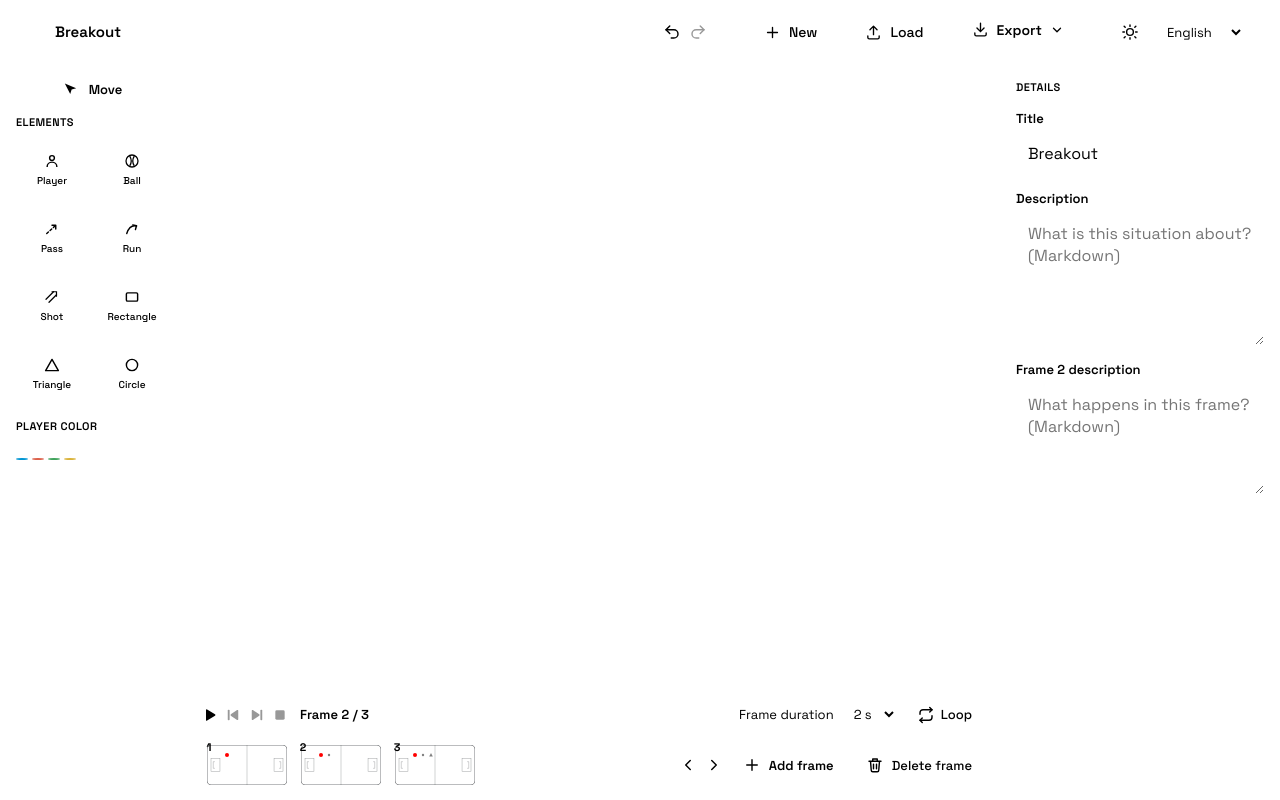
Test case: editor page: slideshow playback › while playing › undo/redo are disabled, also by keyboard; Delete and Backspace do nothing
The width and height of the screenshot is (1280, 800).
Click the button named "Play" at point(209, 714), box [200,706,218,724]
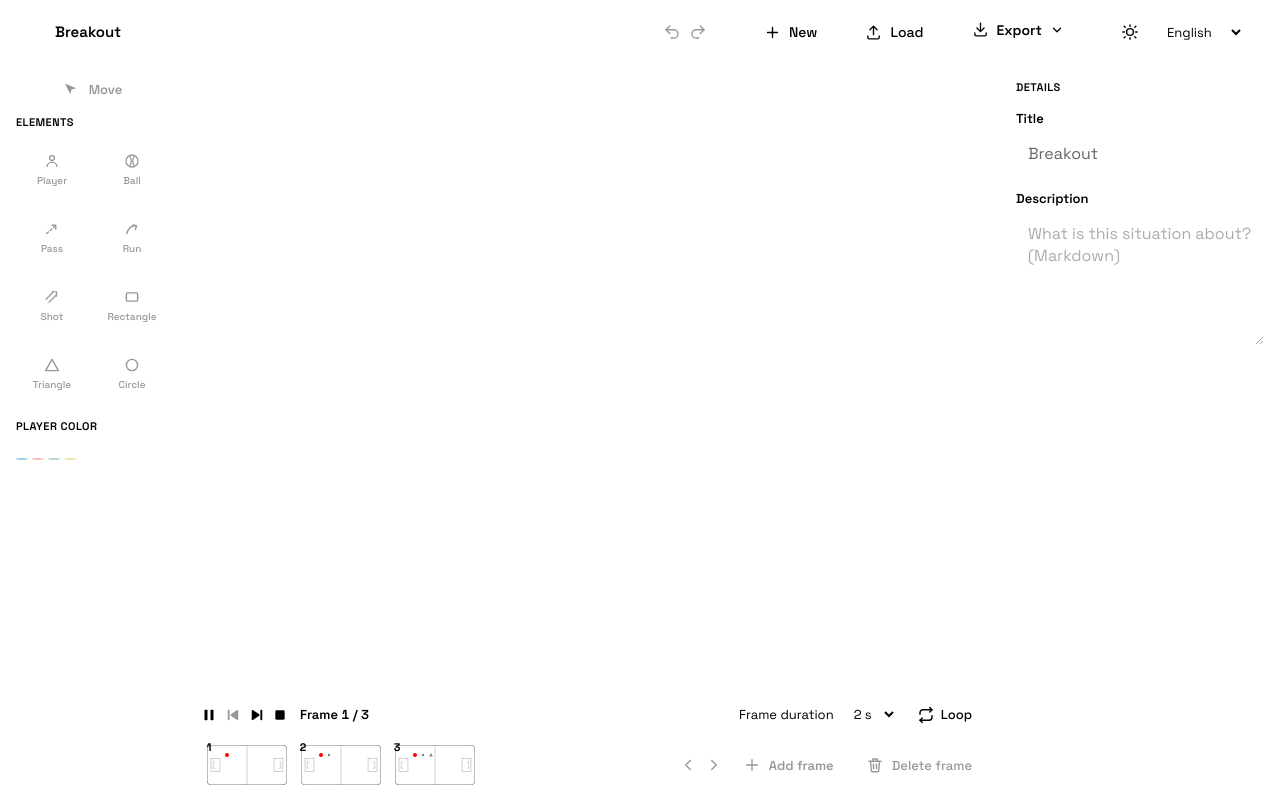
Expected: the button named "Undo" is disabled, [663,23,681,41]
Press z
Press Delete
Press Backspace
Click the button named "Stop" at point(280, 714), box [272,706,288,722]
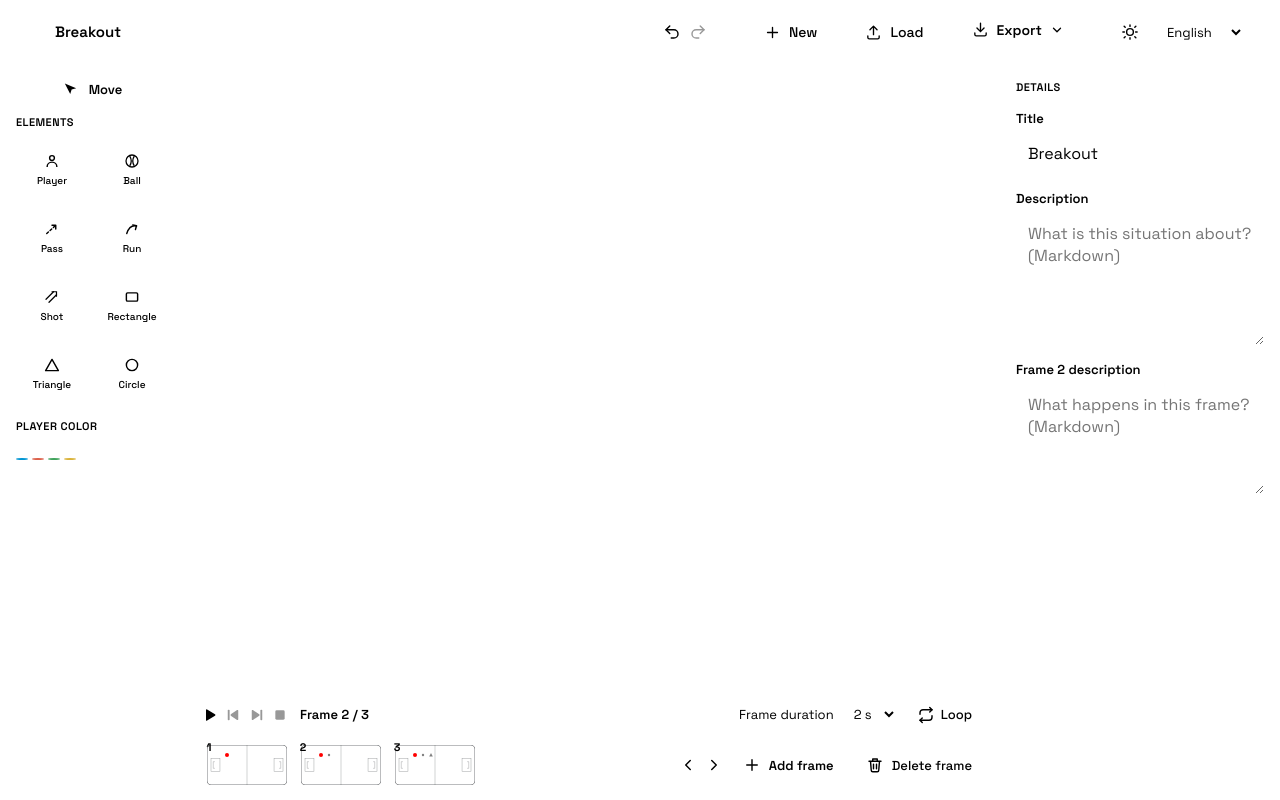
Expected: the button named "Undo" is enabled, [663,23,681,41]
